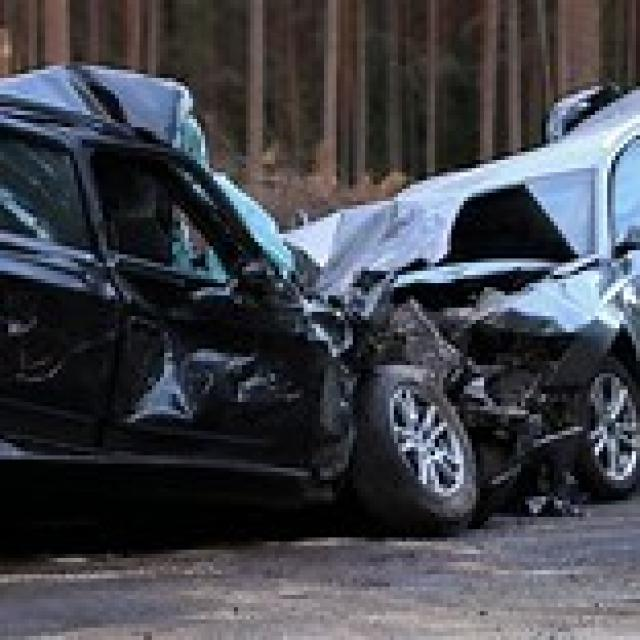Accident: (15, 15, 640, 513)
